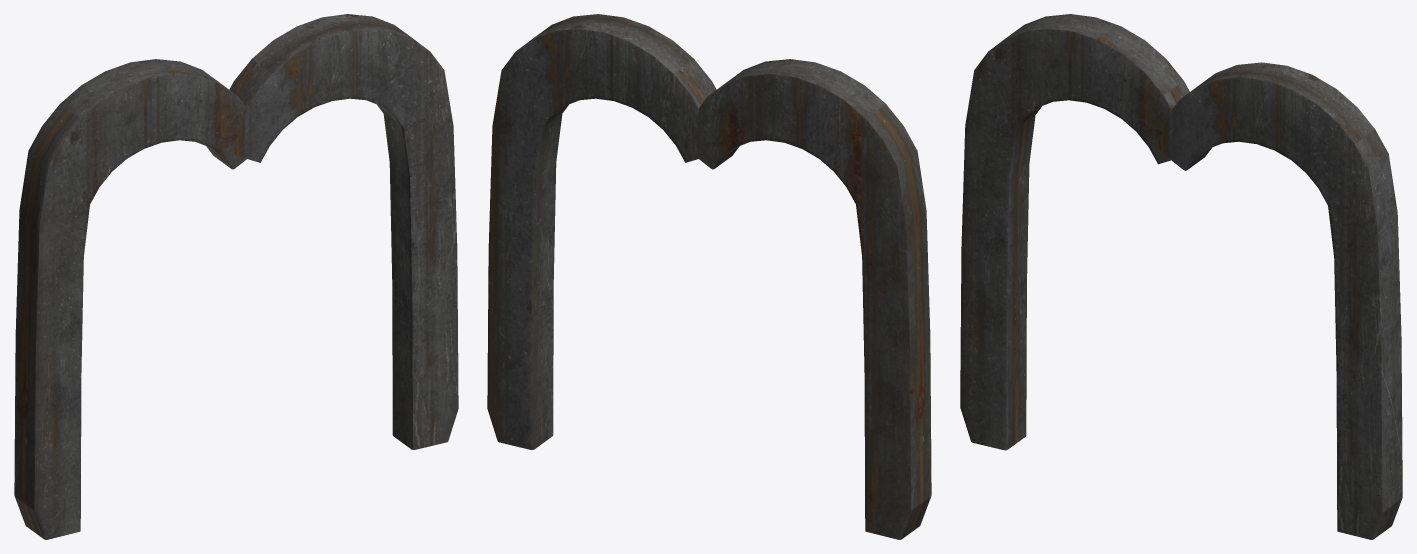
Rendered from Marco.fbx.
3 views of the same model, side by side, from view 1: azimuth 30°, elevation 25°; view 2: azimuth 150°, elevation 25°; view 3: azimuth 330°, elevation 25° (orthographic).
Parts seen in each view (by area): view 1: Marco; view 2: Marco; view 3: Marco.
Part boxes in pixels (x1=…): Marco: x1=14, y1=14, x2=458, y2=539; Marco: x1=487, y1=14, x2=931, y2=539; Marco: x1=960, y1=14, x2=1402, y2=539.
Size of the model in its own units: 980 by 964 by 83.5.
